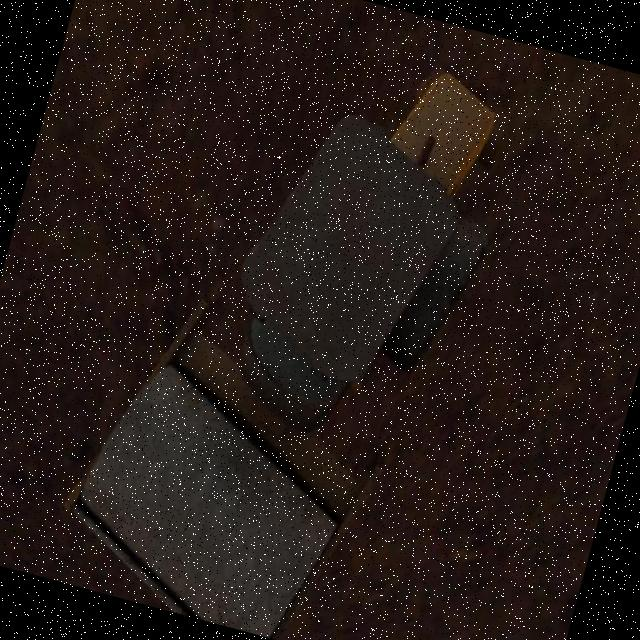Roller: (43, 1, 531, 640)
